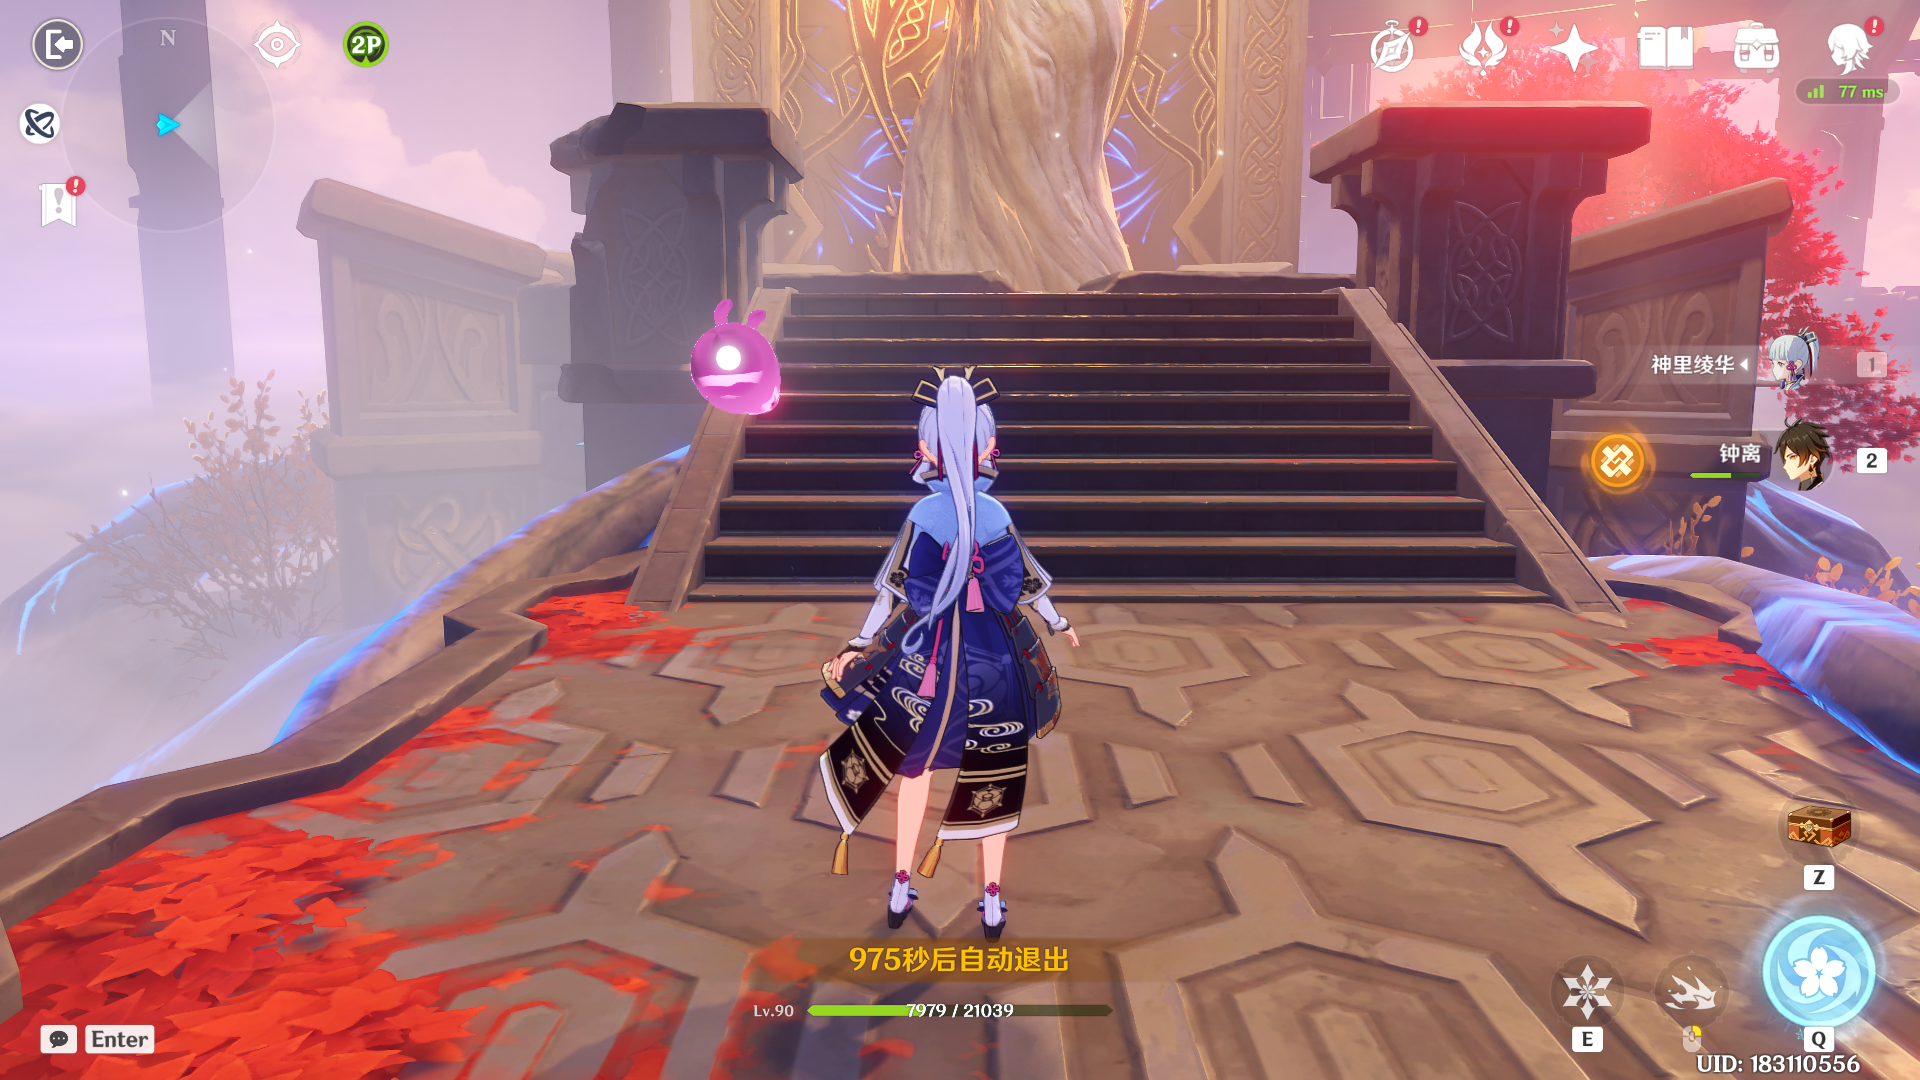character: (779, 349, 1102, 945)
